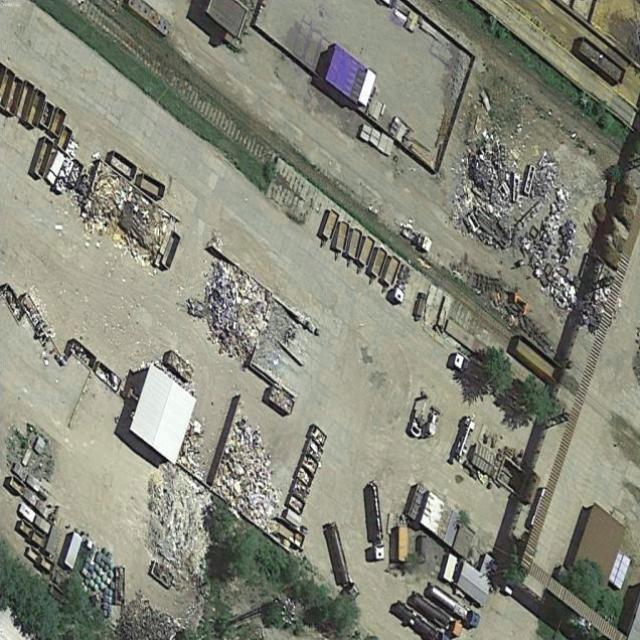dump_site: (447, 103, 603, 315), (135, 454, 221, 590), (210, 403, 297, 533), (185, 248, 271, 367), (81, 158, 170, 272), (116, 595, 176, 640)
